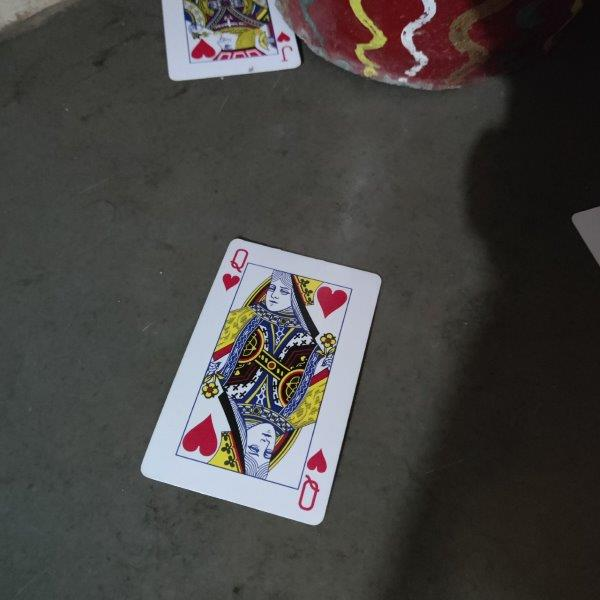Jack of Hearts: (161, 1, 304, 82)
Queen of Hearts: (139, 237, 383, 527)
